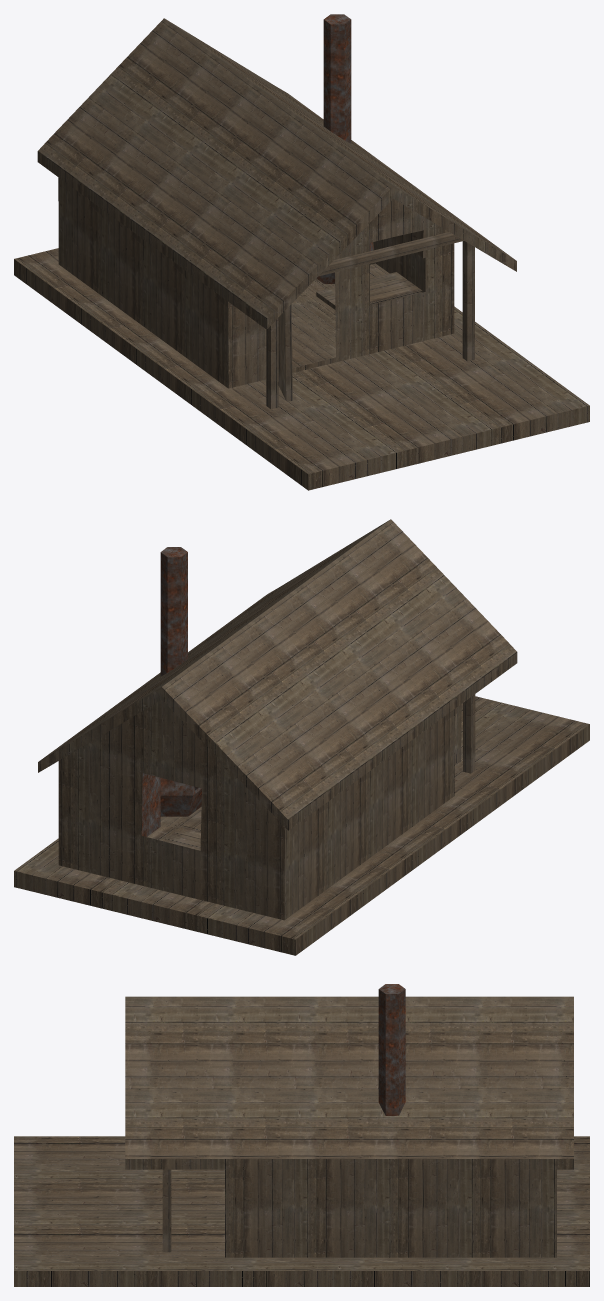
File: House_01.glb
The picture shows the model from 3 angles, top to bottom: view 1: azimuth 30°, elevation 25°; view 2: azimuth 150°, elevation 25°; view 3: azimuth 270°, elevation 25°; orthographic projection. The views are drawn at different scales.
Visible parts, largest first — view 1: Plane-col, Plane.001-col, Cylinder.001-col, Cube.002-col, Cube-col, Plane.004-col, Plane.002-col, Cube.001-col; view 2: Plane-col, Plane.001-col, Cylinder.001-col, Cube.004-col, Cube.001-col, Plane.003-col; view 3: Plane-col, Plane.001-col, Cylinder.001-col, Cube-col.
Part boxes in pixels (x1,y1,x2,y2): Plane-col: (37, 18, 516, 388); Plane.001-col: (14, 248, 589, 490); Cylinder.001-col: (316, 14, 373, 283); Cube.002-col: (318, 232, 463, 276); Cube-col: (462, 241, 474, 361); Plane.004-col: (316, 272, 422, 309); Plane.002-col: (278, 304, 292, 401); Cube.001-col: (266, 317, 278, 409); Plane-col: (38, 519, 517, 920); Plane.001-col: (14, 696, 589, 955); Cylinder.001-col: (160, 547, 201, 816); Cube.004-col: (141, 773, 160, 836); Cube.001-col: (463, 694, 475, 773); Plane.003-col: (162, 825, 200, 850); Plane-col: (125, 996, 573, 1257); Plane.001-col: (14, 1136, 589, 1286); Cylinder.001-col: (378, 984, 405, 1115); Cube-col: (162, 1169, 171, 1252).
Bounding box in the file's own units: 7.09 × 6.63 × 12.83.
Materials: 3 (3 with a texture image).
